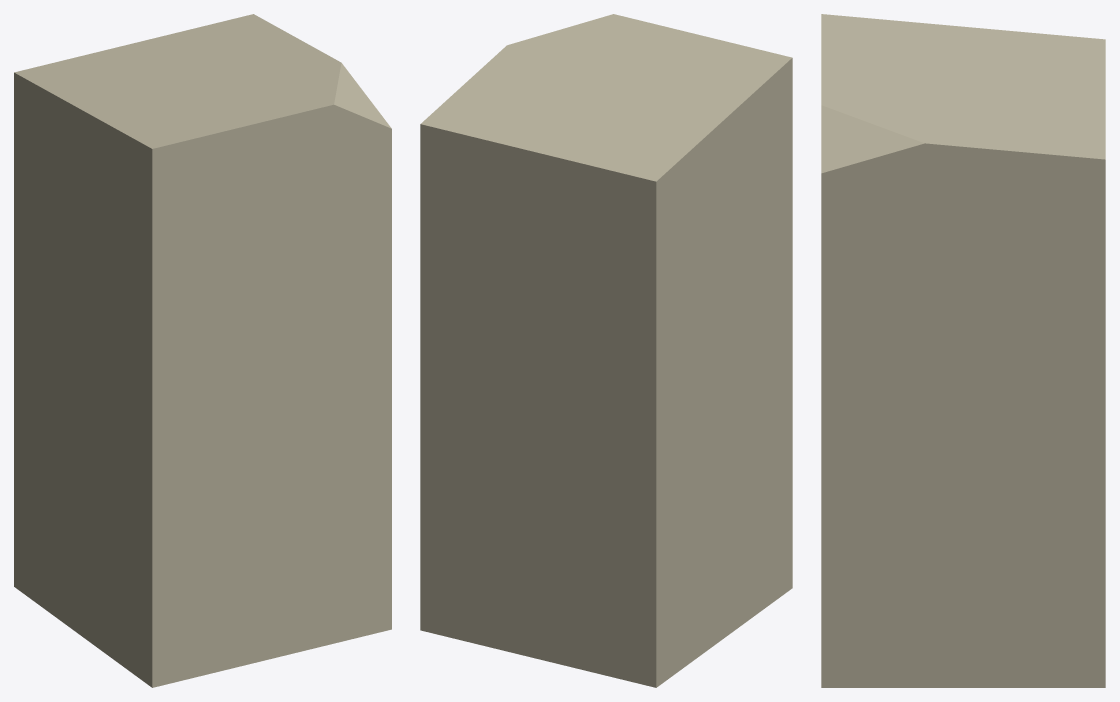
Rendered from Rock_Square_m_02.fbx.
3 views of the same model, side by side, from view 1: azimuth 30°, elevation 25°; view 2: azimuth 150°, elevation 25°; view 3: azimuth 270°, elevation 25° (orthographic). The views are drawn at different scales.
Parts seen in each view (by area): view 1: Rock_Square_m_02; view 2: Rock_Square_m_02; view 3: Rock_Square_m_02.
Boxes of the visible parts, bbox=[...] form: Rock_Square_m_02: bbox=[14, 14, 391, 687]; Rock_Square_m_02: bbox=[420, 14, 792, 687]; Rock_Square_m_02: bbox=[821, 14, 1105, 687].
Bounding box in the file's own units: 39.52 × 84.95 × 39.52.
